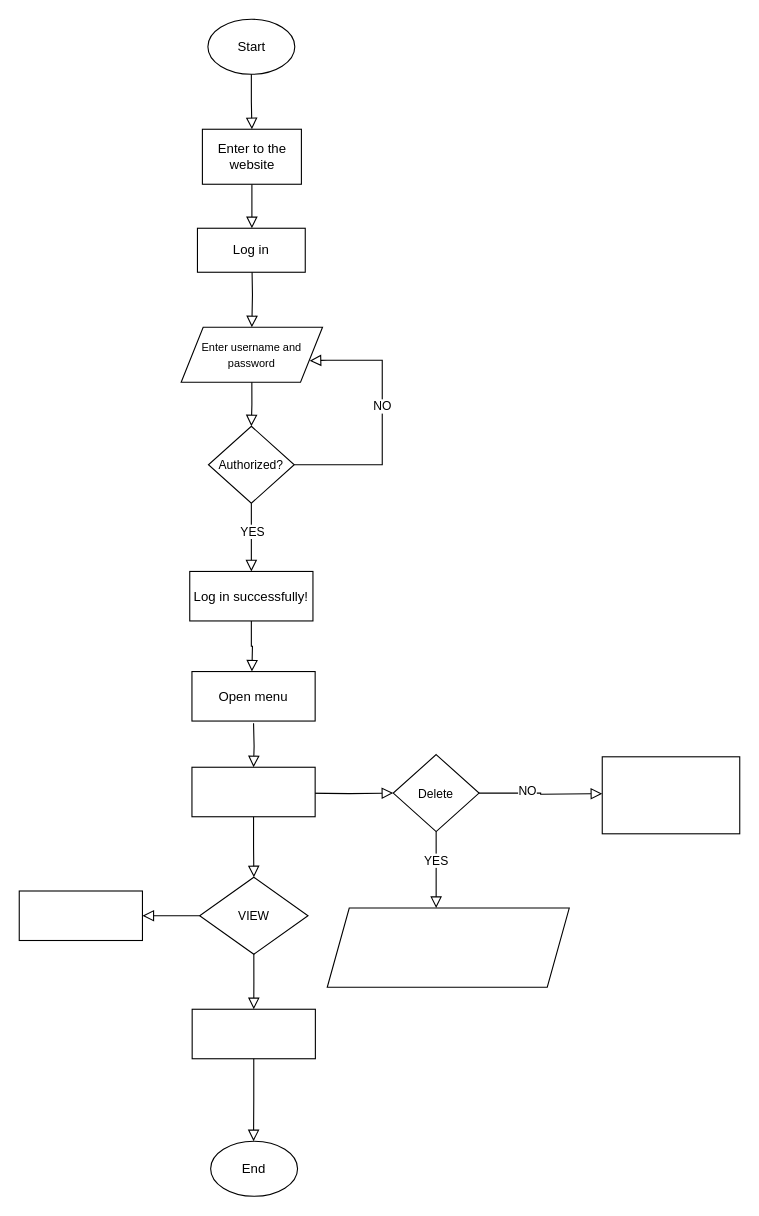
This 759x1216 diagram has some shape labels left out. Each missing label, with the centre of its shape:
Check Activity logs: point 253,1033
Check online users or all users: point 80,915
Open Features: point 253,791
Remove content/activity in Announcement/ Marketplace/ Lost and found pane: point 447,947
View Announcement and Marketplace pane and Lost and found pane post only: point 670,795
